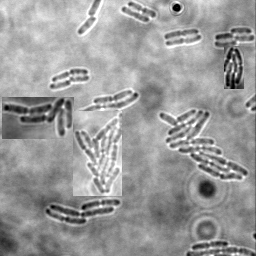Dividing: (52, 67, 89, 81), (128, 1, 157, 18), (166, 34, 202, 47), (164, 28, 200, 39), (192, 239, 229, 249)
Microcolony: (158, 109, 249, 180), (73, 111, 122, 196), (2, 97, 74, 139), (76, 88, 139, 119), (45, 199, 121, 224), (214, 27, 255, 48), (224, 46, 244, 89)
Rod: (121, 5, 150, 23), (78, 16, 99, 34), (50, 79, 72, 89), (69, 73, 90, 82)
